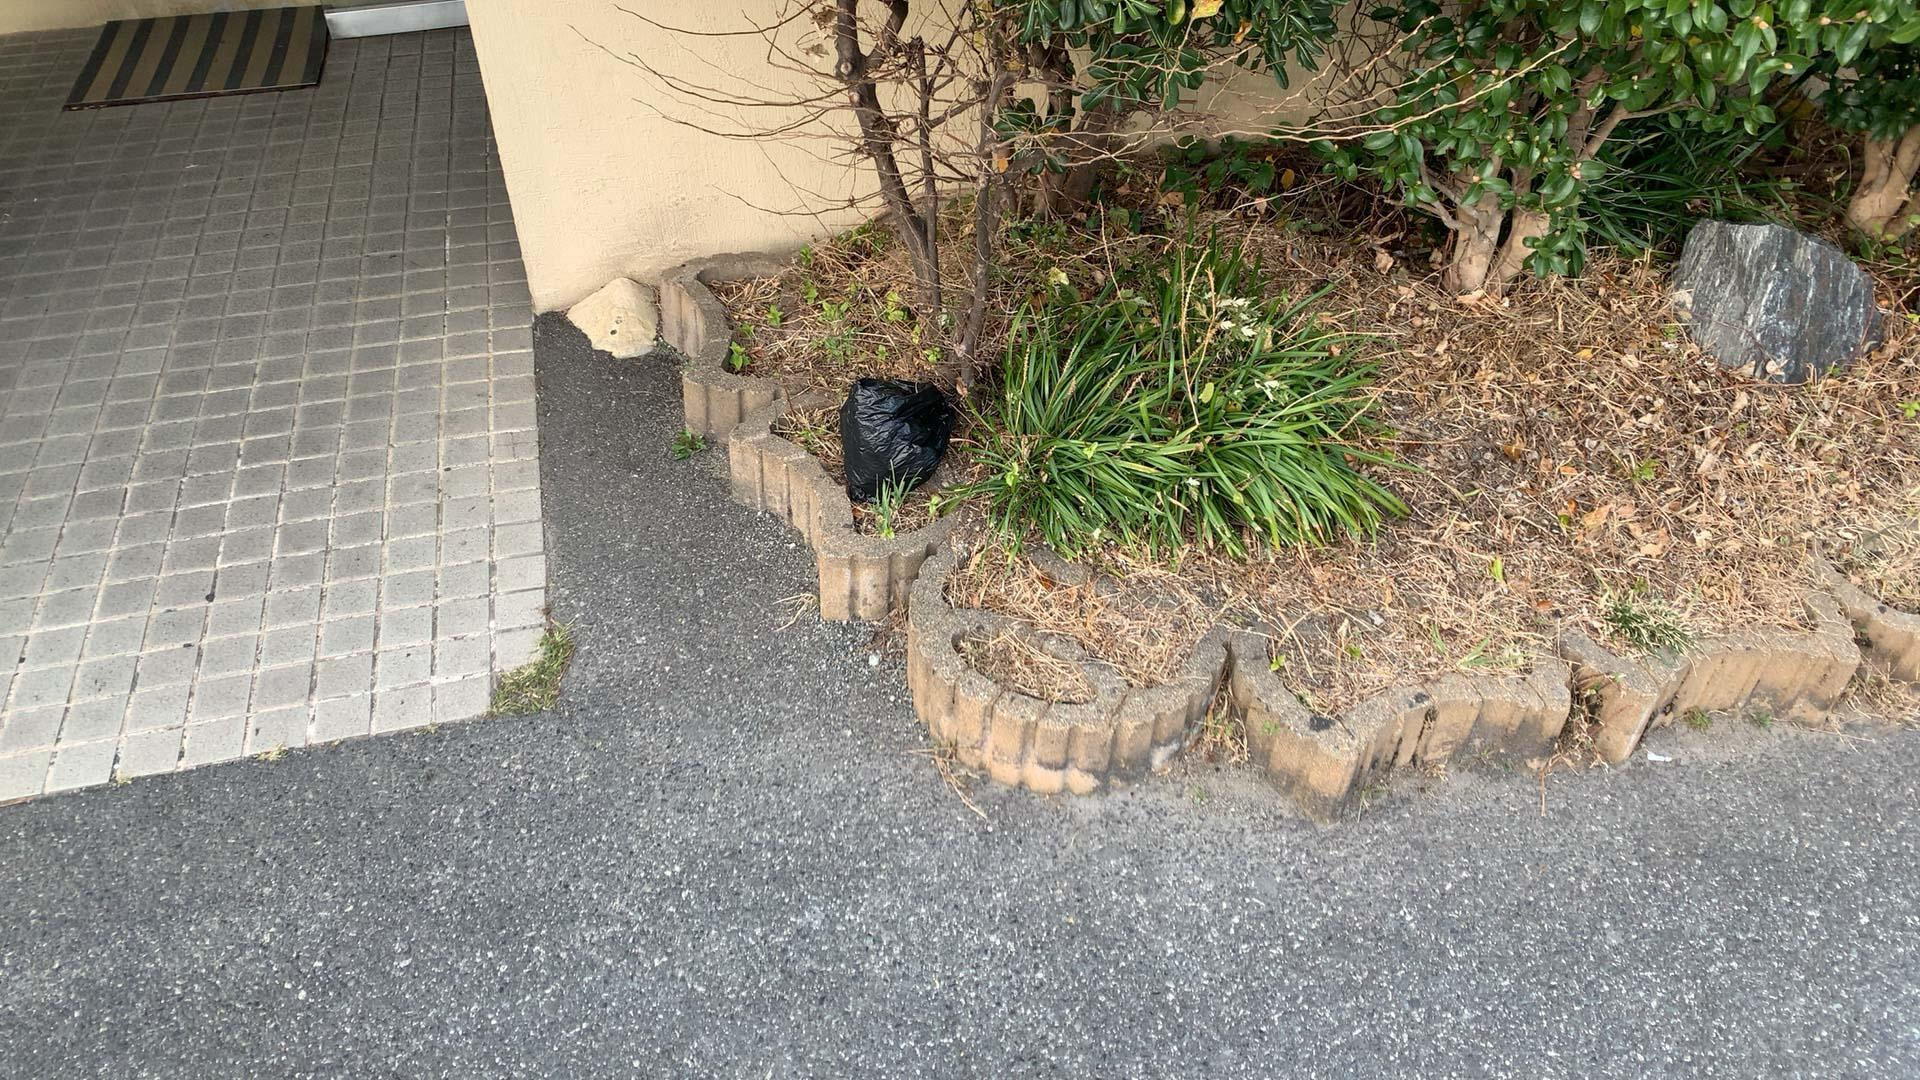black_bag: (820, 367, 956, 518)
